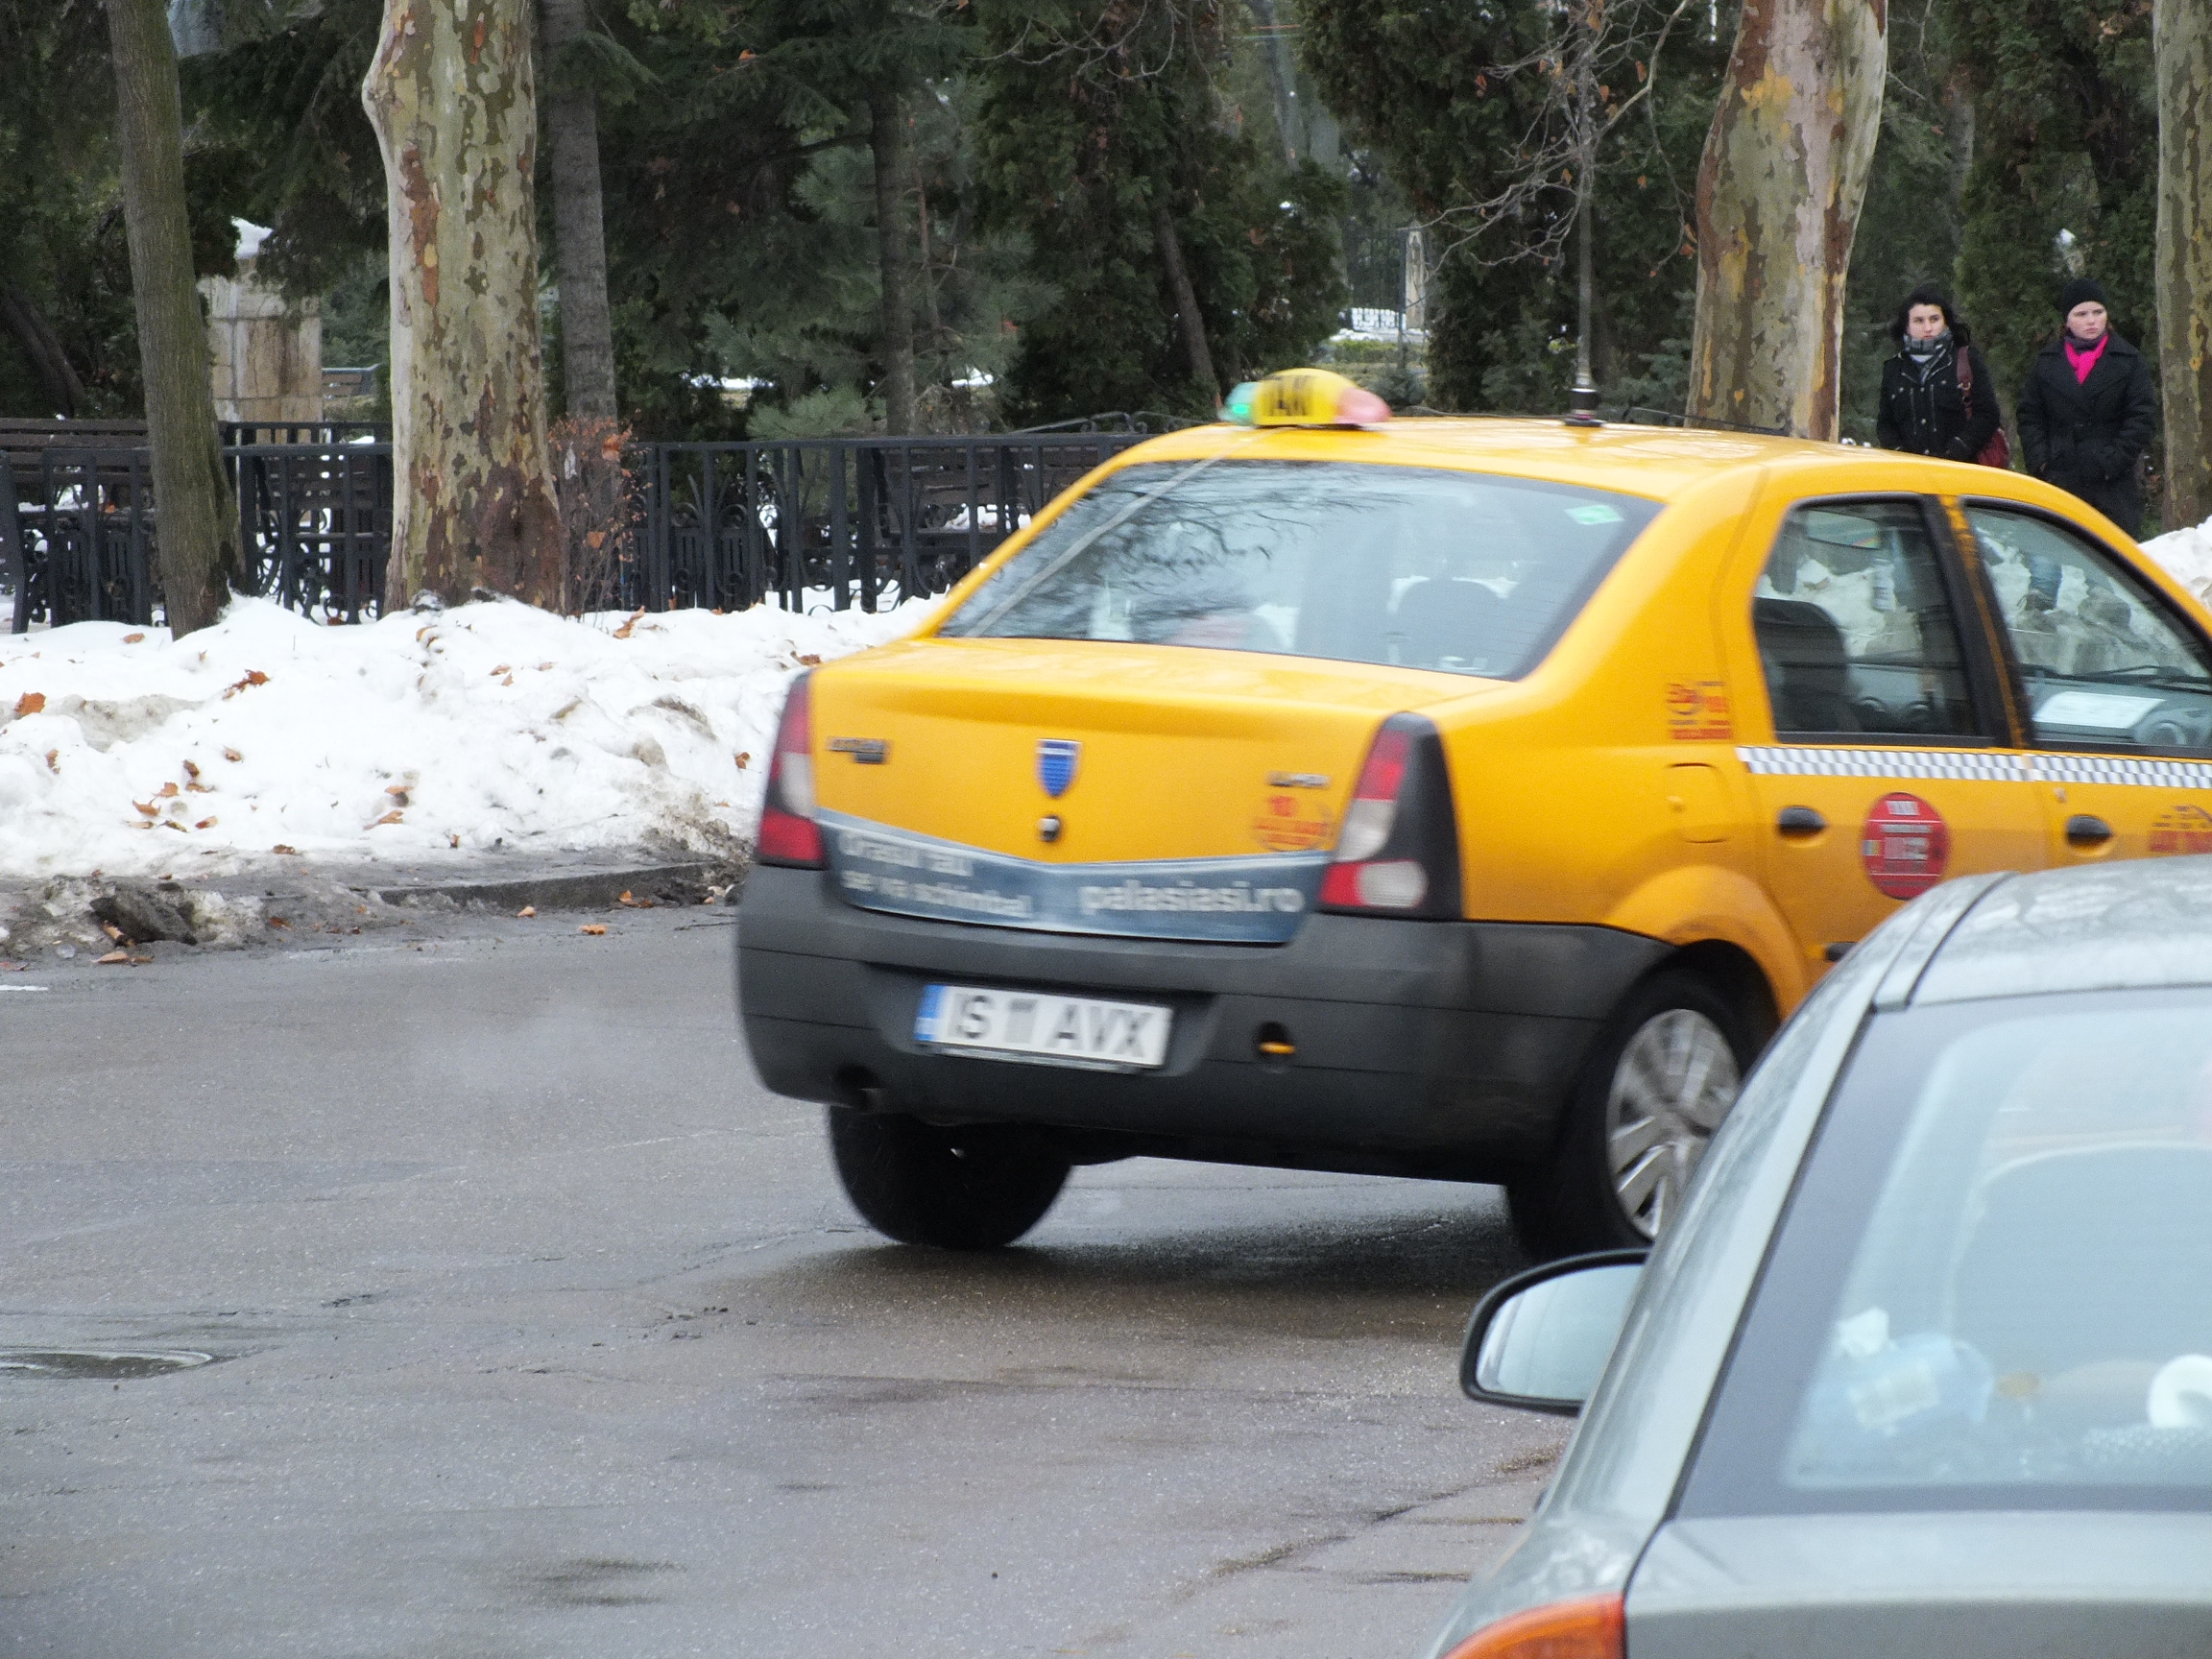IS11AVX: (918, 990, 1152, 1061)
